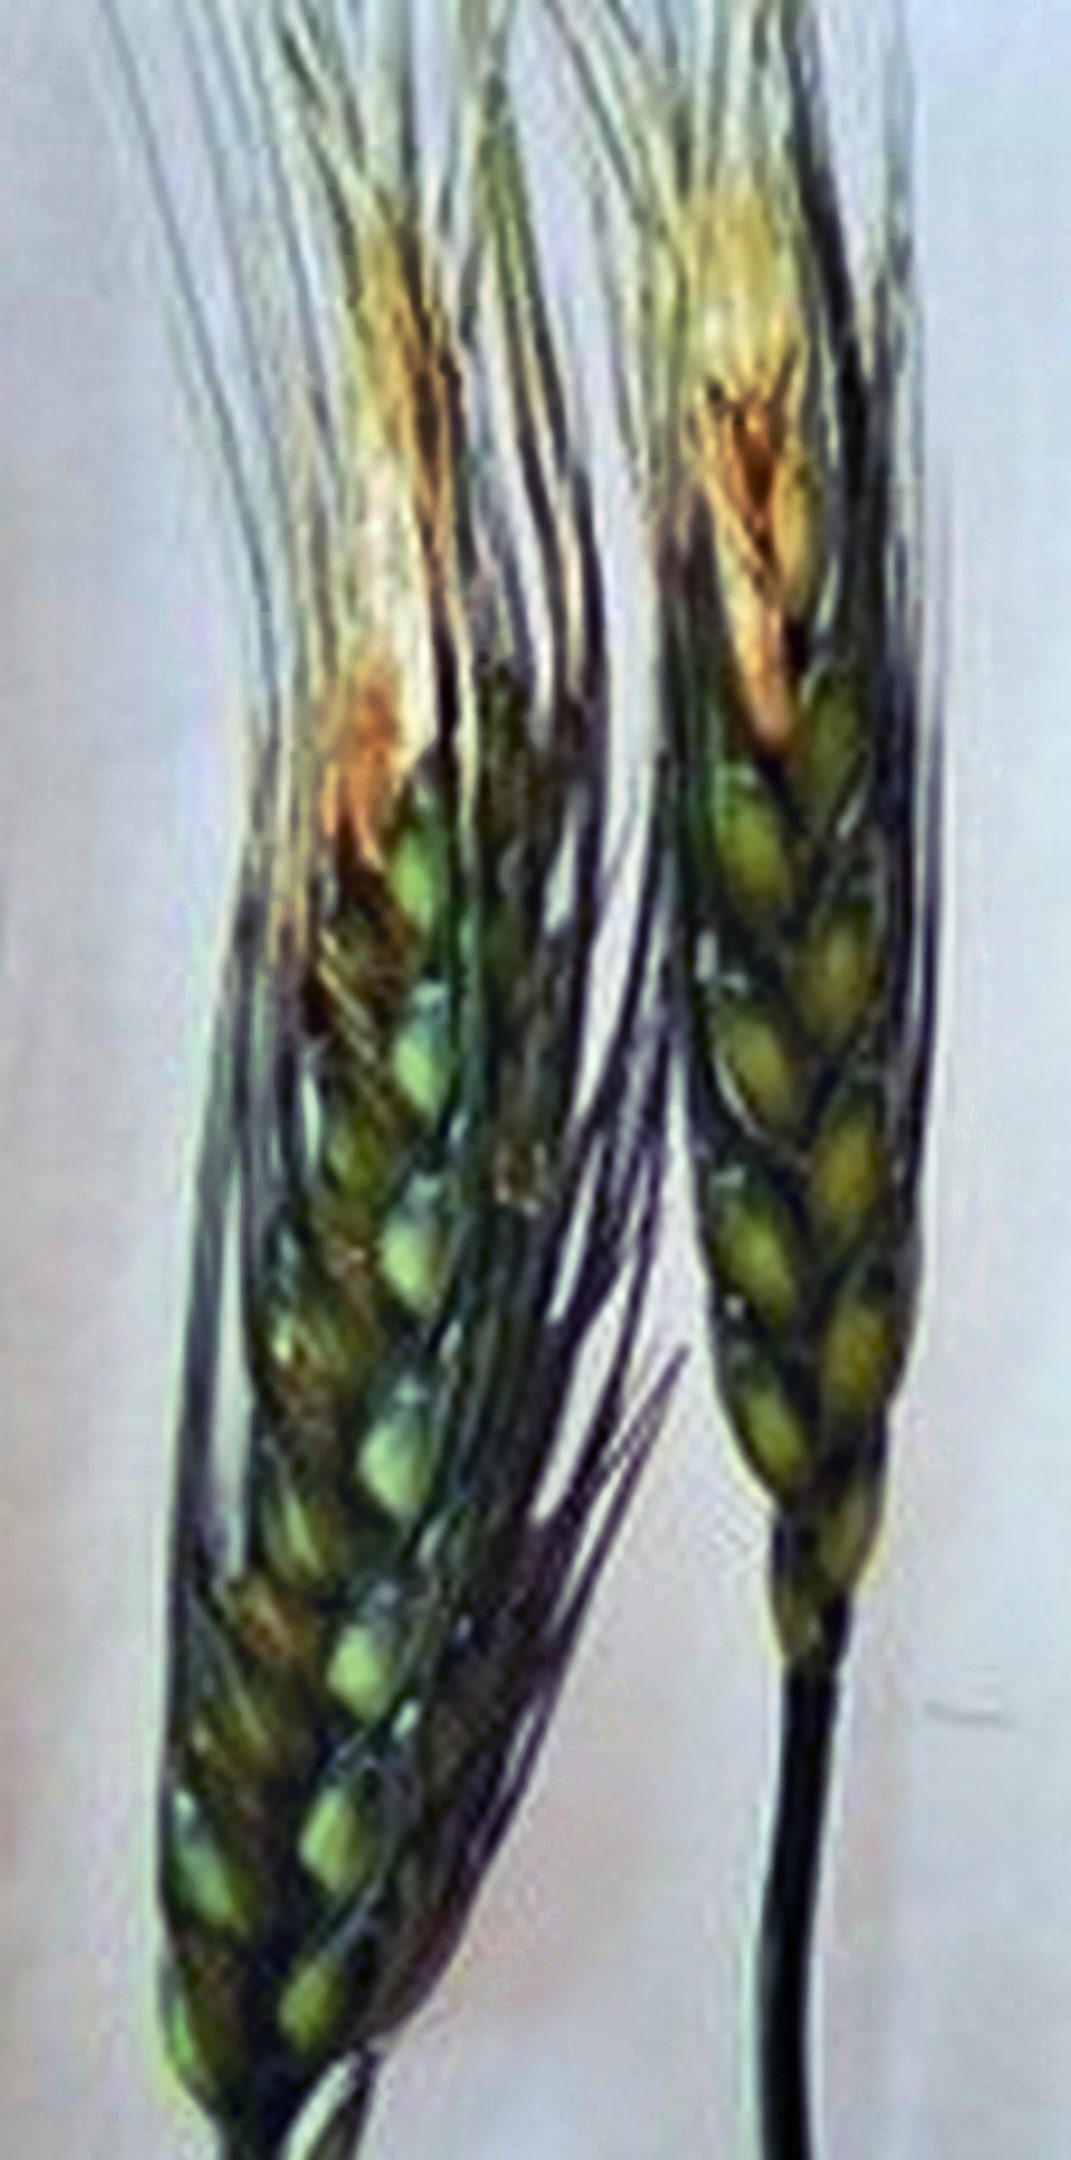Wheat scab: (87, 218, 629, 2064), (629, 112, 987, 1619)
